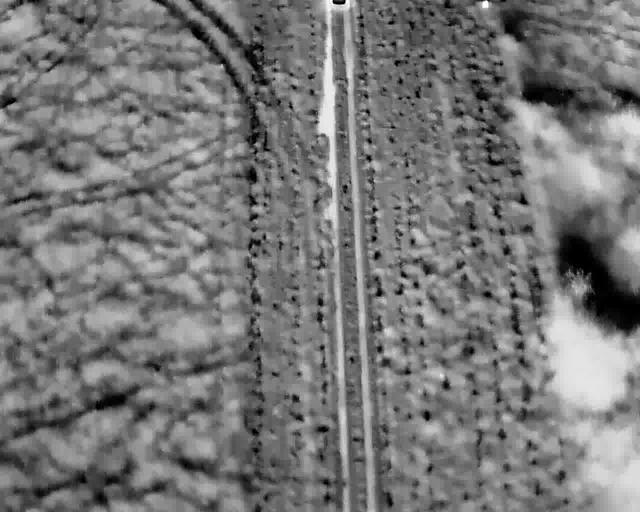car: (328, 0, 349, 7)
